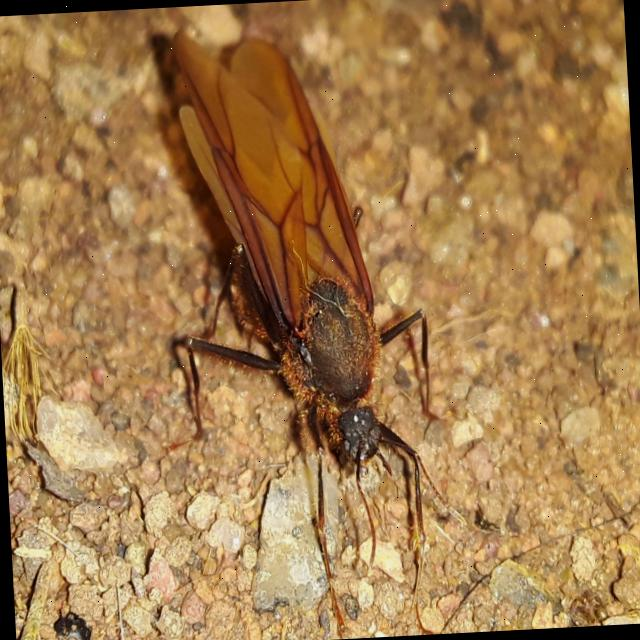Alive-Male-Alate: (157, 8, 482, 640)
